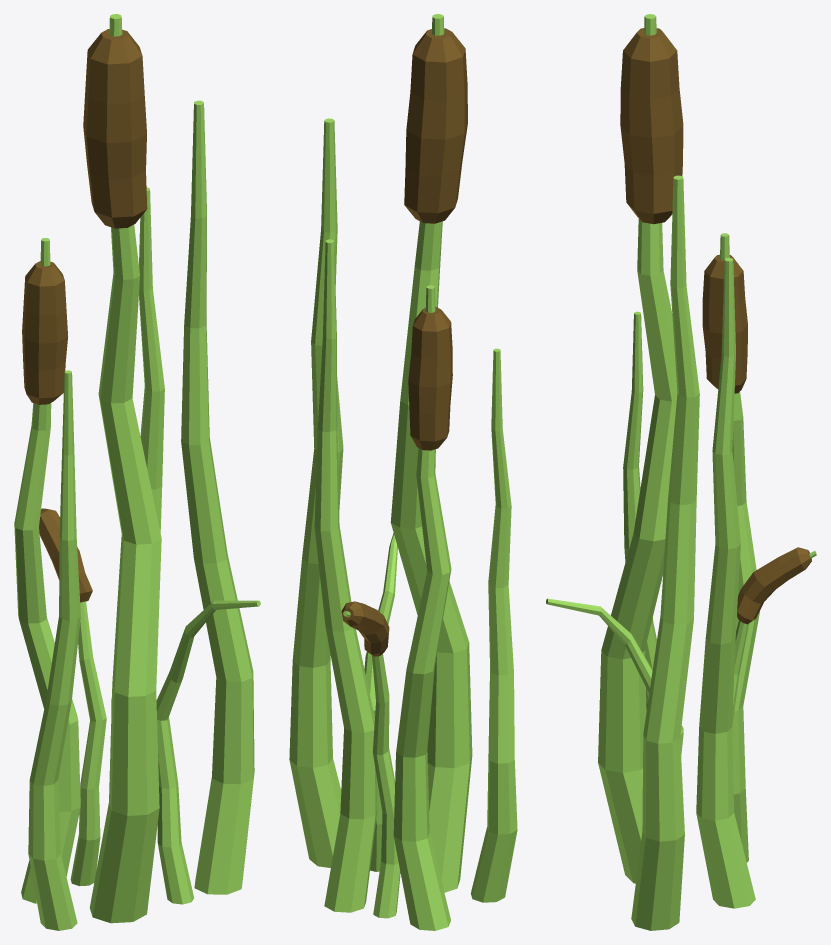
Rendered from ENV_Reeds.fbx.
3 views of the same model, side by side, from view 1: azimuth 30°, elevation 25°; view 2: azimuth 150°, elevation 25°; view 3: azimuth 270°, elevation 25° (orthographic). The views are drawn at different scales.
Parts seen in each view (by area): view 1: Cylinder.009; view 2: Cylinder.009; view 3: Cylinder.009.
Part boxes in pixels (x1=…): Cylinder.009: x1=14, y1=14, x2=260, y2=930; Cylinder.009: x1=289, y1=14, x2=517, y2=930; Cylinder.009: x1=546, y1=14, x2=816, y2=930.
Bounding box in the file's own units: 38.27 × 35.24 × 134.
